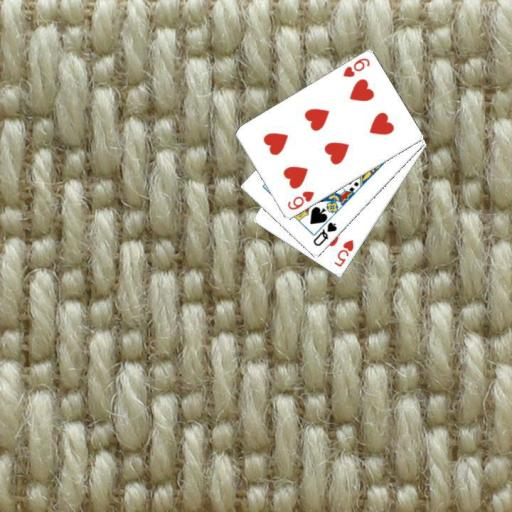5H: (331, 237, 356, 269)
6H: (284, 188, 316, 212), (340, 55, 371, 79)
QS: (310, 219, 339, 248)
